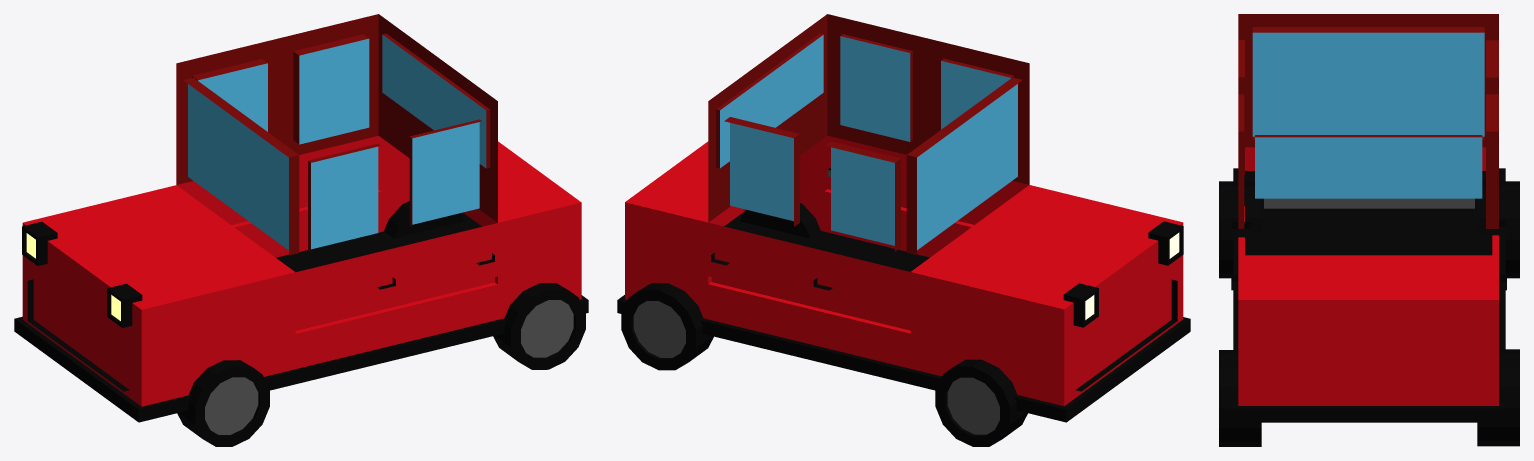
The model's file is mobil.gltf.
3 views of the same model, side by side, from view 1: azimuth 30°, elevation 25°; view 2: azimuth 150°, elevation 25°; view 3: azimuth 270°, elevation 25° (orthographic). The views are drawn at different scales.
Visible parts, largest first — view 1: Mobil; view 2: Mobil; view 3: Mobil.
Boxes of the visible parts, x1,y1,x2,y2 form: Mobil: (14,14,588,446); Mobil: (617,14,1190,446); Mobil: (1219,14,1519,446).
Size of the model in its own units: 8.88 by 5.09 by 4.65.
